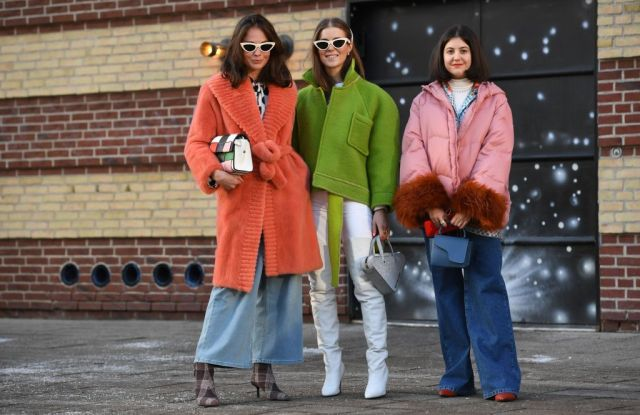Person: (388, 21, 551, 411), (173, 11, 318, 407), (290, 12, 407, 409)
